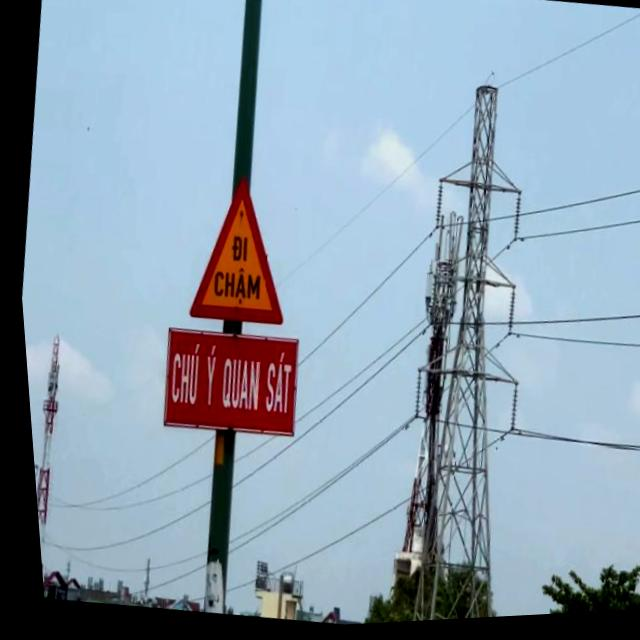Di cham: (173, 165, 302, 338)
